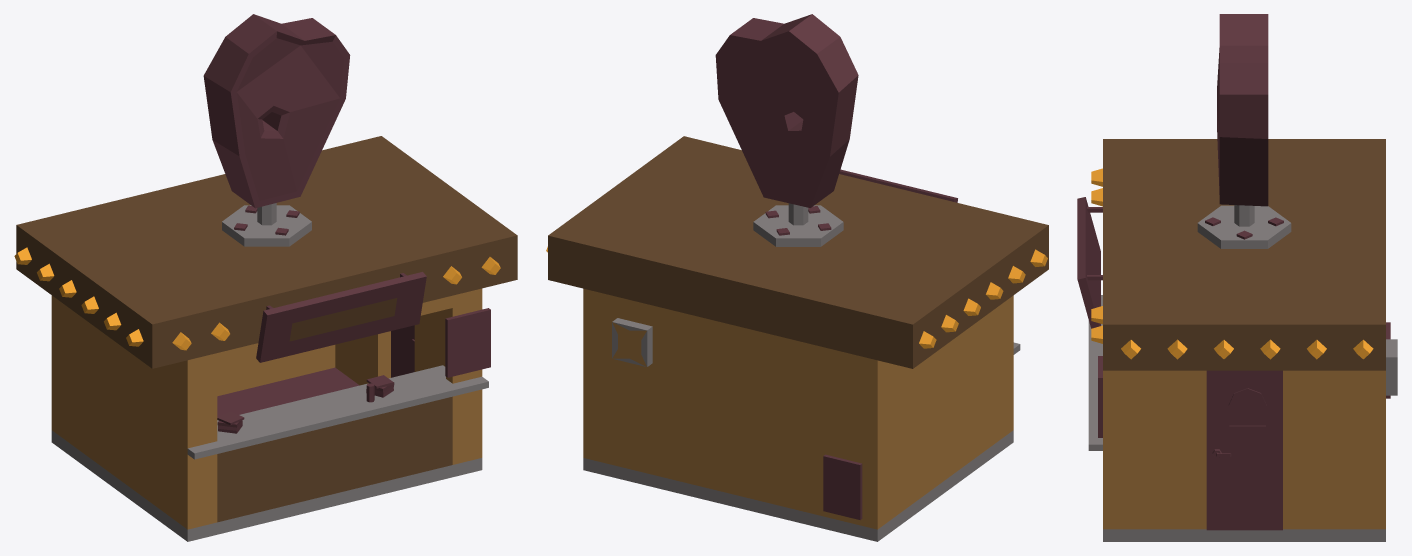
File: amusement-park-steak-stall.glb
The picture shows the model from 3 angles, left to right: view 1: azimuth 30°, elevation 25°; view 2: azimuth 150°, elevation 25°; view 3: azimuth 270°, elevation 25°; orthographic projection. The views are drawn at different scales.
Visible parts, largest first — view 1: steak-stall; view 2: steak-stall; view 3: steak-stall.
Part boxes in pixels (x1=…): steak-stall: x1=14, y1=14, x2=517, y2=541; steak-stall: x1=546, y1=14, x2=1048, y2=541; steak-stall: x1=1077, y1=14, x2=1397, y2=541.
Size of the model in its own units: 4.9 by 5.29 by 3.39.
